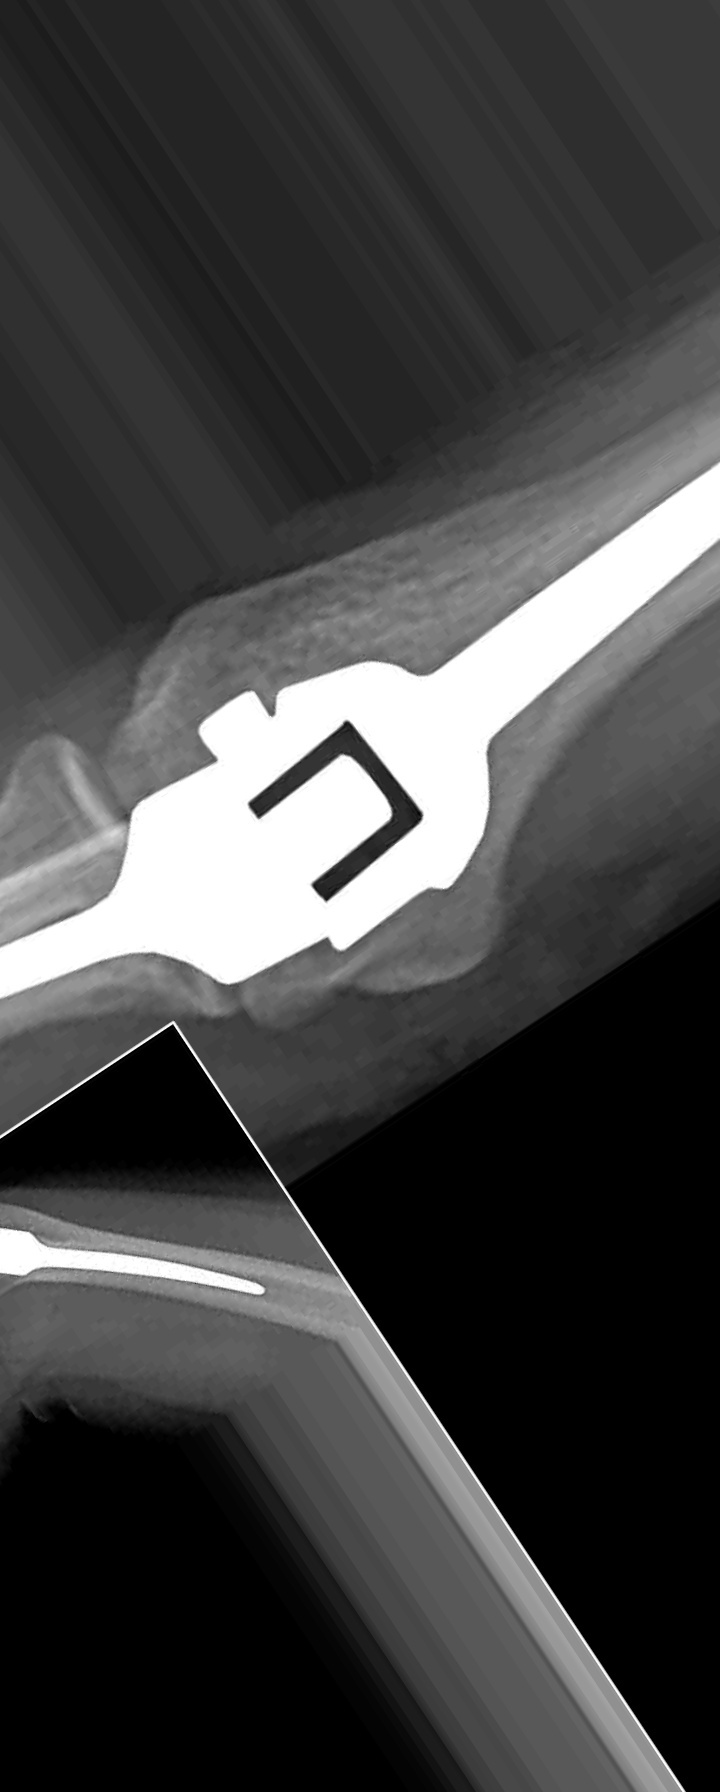Elbow - Osteonics - Stryker: (1, 439, 715, 1013)
